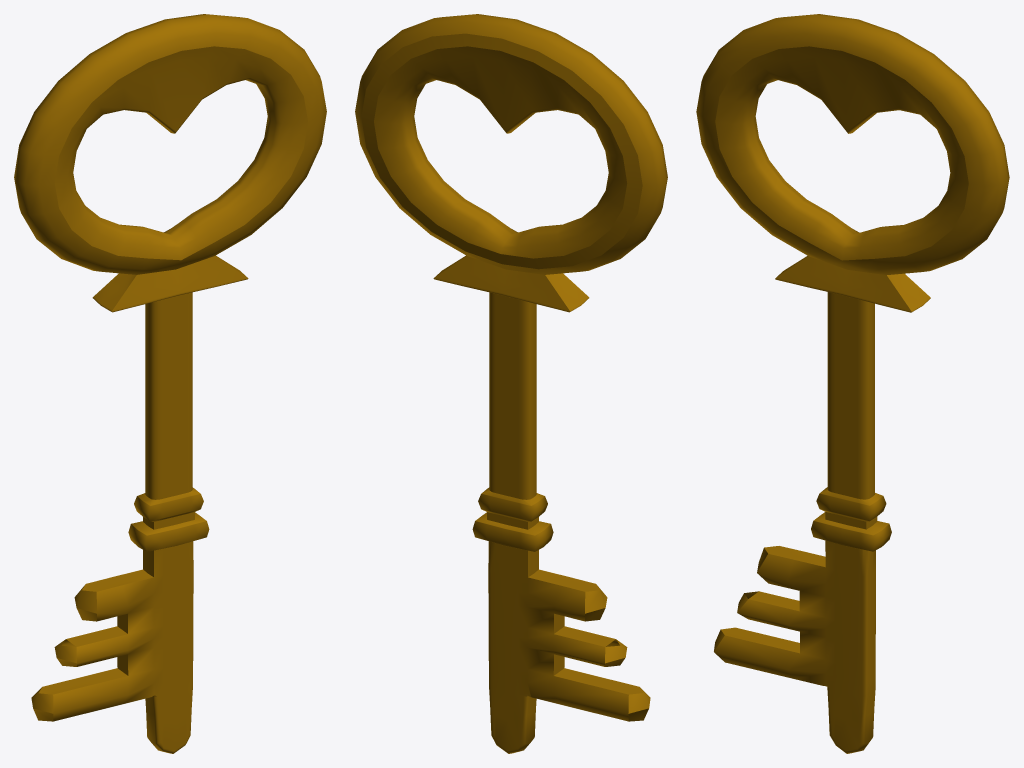
The model's file is LLAVEDORADA.FBX.
3 renders of one model, left to right at view 1: azimuth 30°, elevation 25°; view 2: azimuth 150°, elevation 25°; view 3: azimuth 330°, elevation 25°, orthographic.
Parts seen in each view (by area): view 1: LLAVEDORADA; view 2: LLAVEDORADA; view 3: LLAVEDORADA.
Boxes of the visible parts, x1=… form: LLAVEDORADA: x1=14, y1=14, x2=326, y2=753; LLAVEDORADA: x1=355, y1=14, x2=667, y2=753; LLAVEDORADA: x1=696, y1=14, x2=1009, y2=753.
Size of the model in its own units: 0.6078 by 1.37 by 0.0765.
